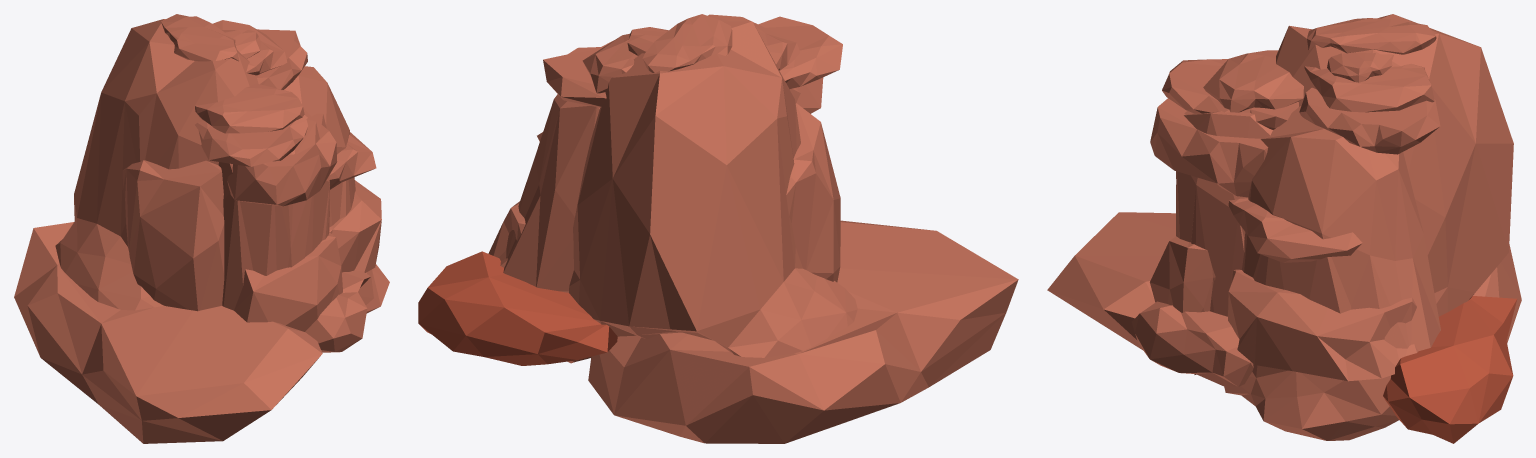
File: rock_003.fbx
3 renders of one model, left to right at view 1: azimuth 30°, elevation 25°; view 2: azimuth 150°, elevation 25°; view 3: azimuth 270°, elevation 25°, orthographic. The views are drawn at different scales.
Parts seen in each view (by area): view 1: rock_003; view 2: rock_003; view 3: rock_003.
Boxes of the visible parts, box(x1,y1,x2,y2) form: rock_003: box(14, 14, 389, 443); rock_003: box(418, 14, 1018, 443); rock_003: box(1047, 14, 1521, 443).
Bounding box in the file's own units: 1330 × 1290 × 1061.
